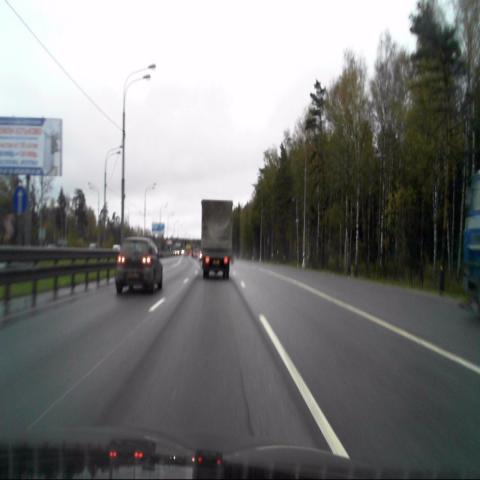4_1_1: (12, 187, 27, 214)
